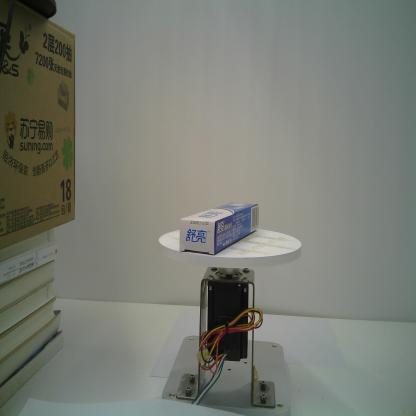Personal Hygiene: (180, 201, 260, 256)
